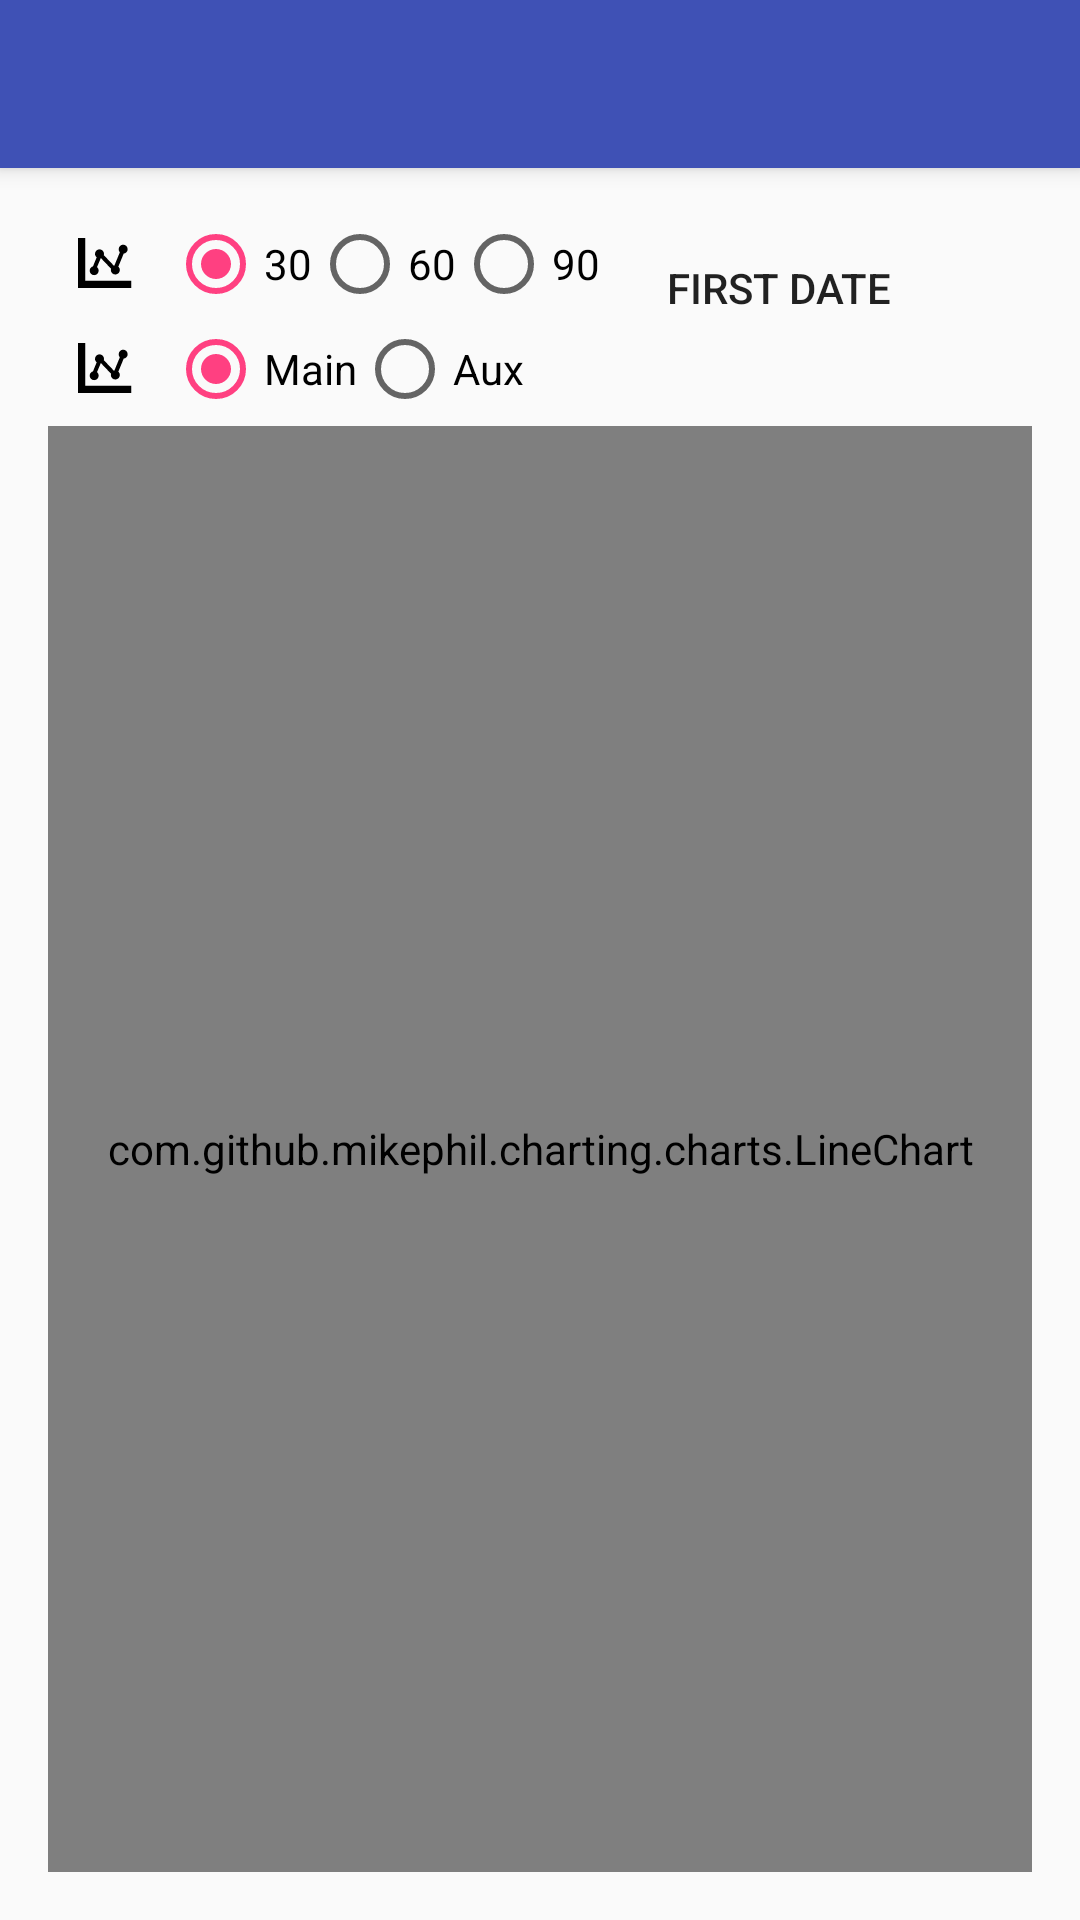

Screen size 1080 × 1920. Icon name, then its center in pixels as point (x, y):
graph: point (105, 263), point (105, 368)
